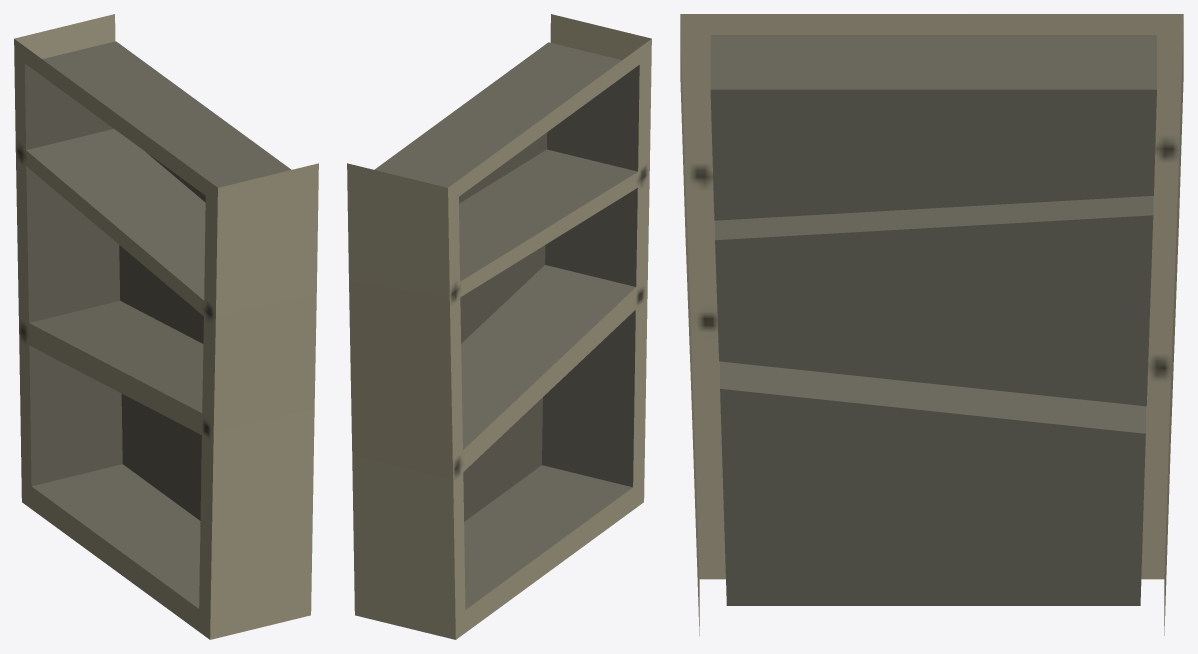
Rendered from Book_Case.fbx.
3 views of the same model, side by side, from view 1: azimuth 30°, elevation 25°; view 2: azimuth 150°, elevation 25°; view 3: azimuth 270°, elevation 25° (orthographic). The views are drawn at different scales.
Parts seen in each view (by area): view 1: BookCase; view 2: BookCase; view 3: BookCase.
Part boxes in pixels (x1=…): BookCase: x1=14, y1=14, x2=318, y2=639; BookCase: x1=347, y1=14, x2=651, y2=639; BookCase: x1=680, y1=14, x2=1183, y2=635.
Bounding box in the file's own units: 0.6 × 2.6 × 2.1.
